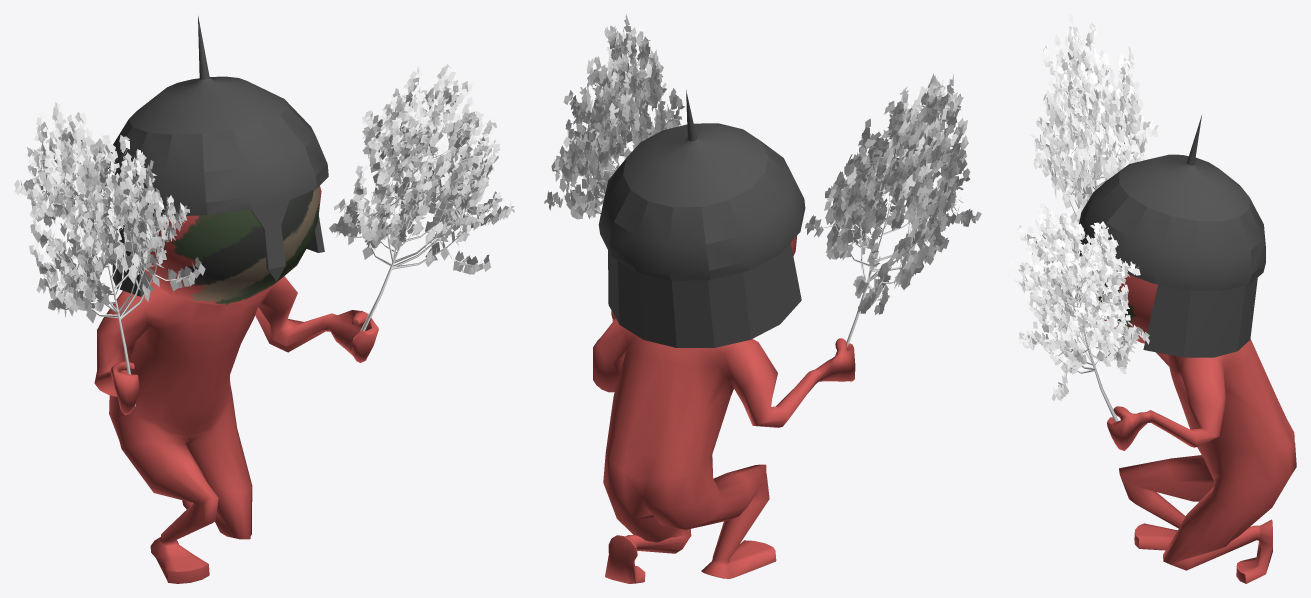
Rendered from hwan_burrow.obj.
3 views of the same model, side by side, from view 1: azimuth 30°, elevation 25°; view 2: azimuth 150°, elevation 25°; view 3: azimuth 270°, elevation 25° (orthographic). The views are drawn at different scales.
Parts seen in each view (by area): view 1: Virtual_Man, Sphere01, tree1, tree2; view 2: Sphere01, Virtual_Man, tree1, tree2; view 3: Virtual_Man, Sphere01, tree2, tree1.
Boxes of the visible parts, left/top/right/bottom form: Virtual_Man: left=94, top=186, right=378, bottom=583; Sphere01: left=103, top=16, right=328, bottom=296; tree1: left=14, top=102, right=205, bottom=406; tree2: left=329, top=64, right=514, bottom=330; Sphere01: left=598, top=90, right=805, bottom=347; Virtual_Man: left=593, top=236, right=855, bottom=583; tree1: left=805, top=73, right=981, bottom=347; tree2: left=544, top=14, right=684, bottom=219; Virtual_Man: left=1079, top=242, right=1296, bottom=583; Sphere01: left=1078, top=115, right=1265, bottom=357; tree2: left=1010, top=203, right=1149, bottom=421; tree1: left=1030, top=14, right=1158, bottom=326.
Bounding box in the file's own units: 1.61 × 1.85 × 1.05.
